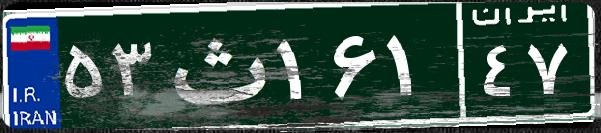1: (385, 28, 445, 110), (273, 28, 330, 110)
3: (110, 28, 158, 105)
4: (475, 38, 525, 113)
5: (57, 26, 110, 107)
6: (330, 28, 385, 110)
7: (525, 38, 570, 115)
ث: (158, 15, 273, 115)
